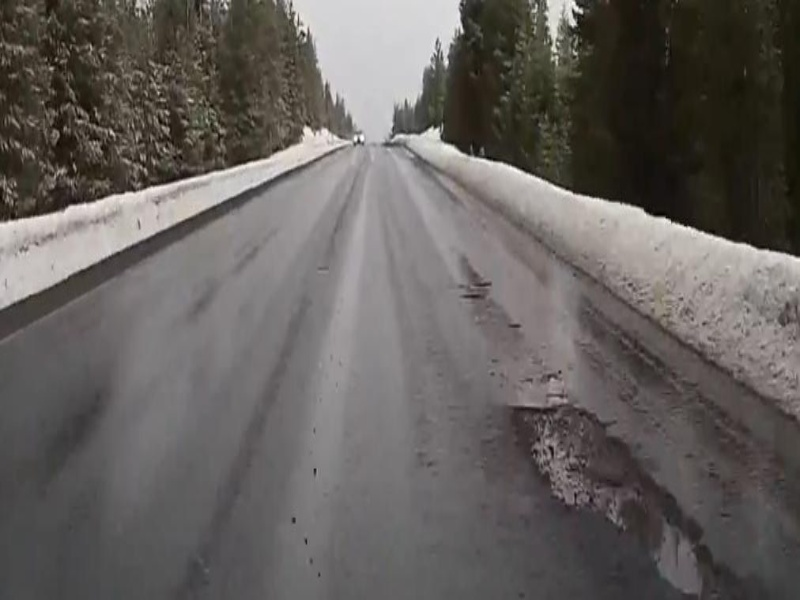pothole: (508, 400, 673, 527), (642, 523, 720, 599)
